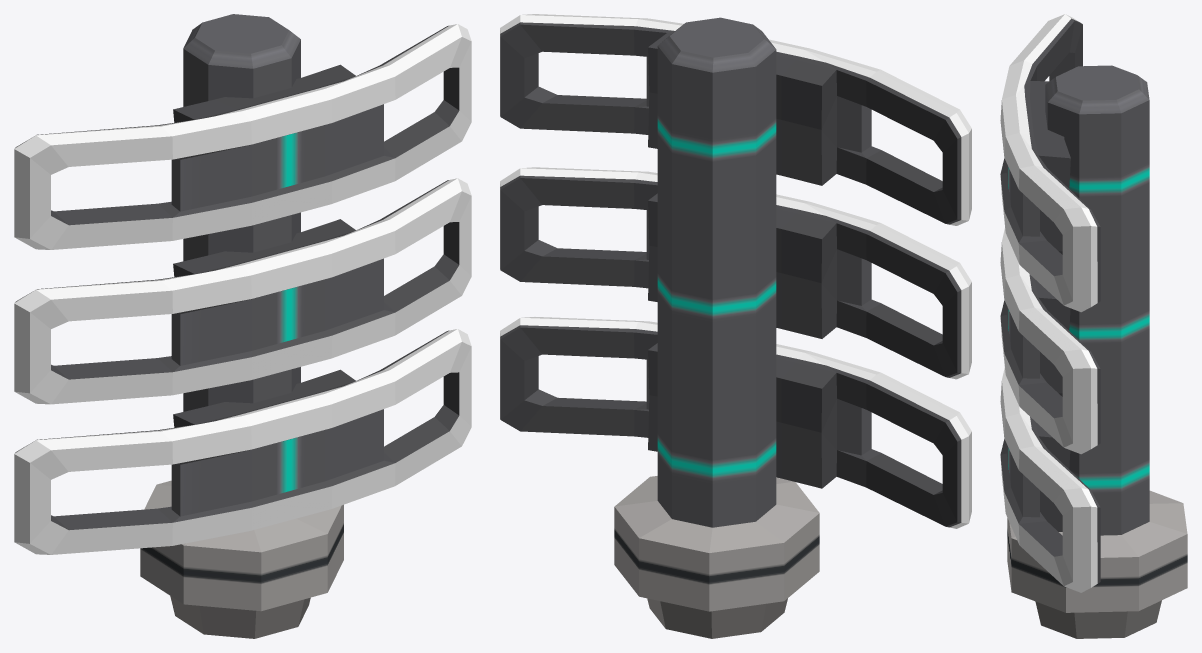
Rendered from SM_Prop_Hover_Light_02.fbx.
3 views of the same model, side by side, from view 1: azimuth 30°, elevation 25°; view 2: azimuth 150°, elevation 25°; view 3: azimuth 270°, elevation 25° (orthographic). The views are drawn at different scales.
Visible parts, largest first — view 1: SM_Prop_Hover_Light_02; view 2: SM_Prop_Hover_Light_02; view 3: SM_Prop_Hover_Light_02.
Boxes of the visible parts, bbox=[...] form: SM_Prop_Hover_Light_02: bbox=[14, 14, 471, 638]; SM_Prop_Hover_Light_02: bbox=[500, 14, 971, 638]; SM_Prop_Hover_Light_02: bbox=[1000, 14, 1187, 638].
Bounding box in the file's own units: 108 × 129 × 41.1.
